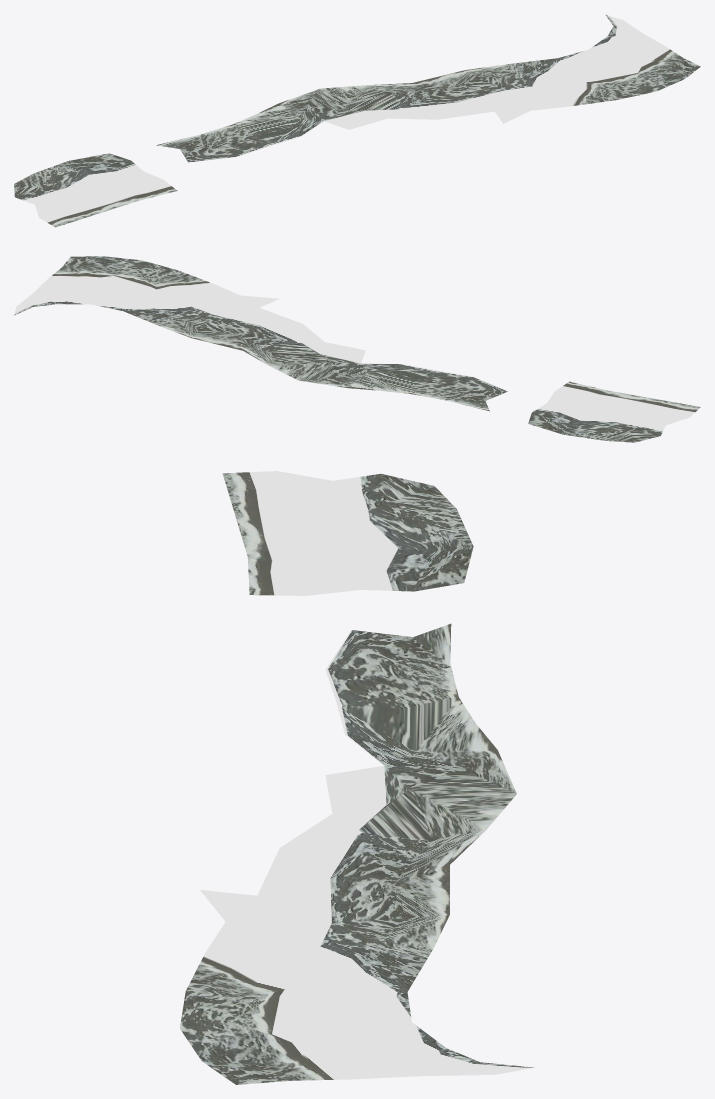
File: wave02.FBX
3 views of the same model, one above another, from view 1: azimuth 30°, elevation 25°; view 2: azimuth 150°, elevation 25°; view 3: azimuth 270°, elevation 25° (orthographic). The views are drawn at different scales.
Parts seen in each view (by area): view 1: wave02; view 2: wave02; view 3: wave02.
Part boxes in pixels (<box>): wave02: <box>14,14,700,227</box>; wave02: <box>14,256,700,442</box>; wave02: <box>180,471,534,1084</box>.
Bounding box in the file's own units: 756 × 185 × 0.
